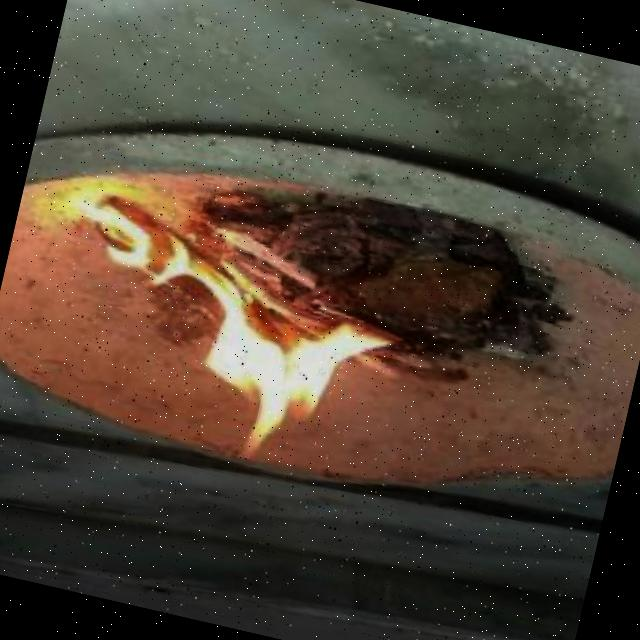fire: (38, 165, 415, 479)
